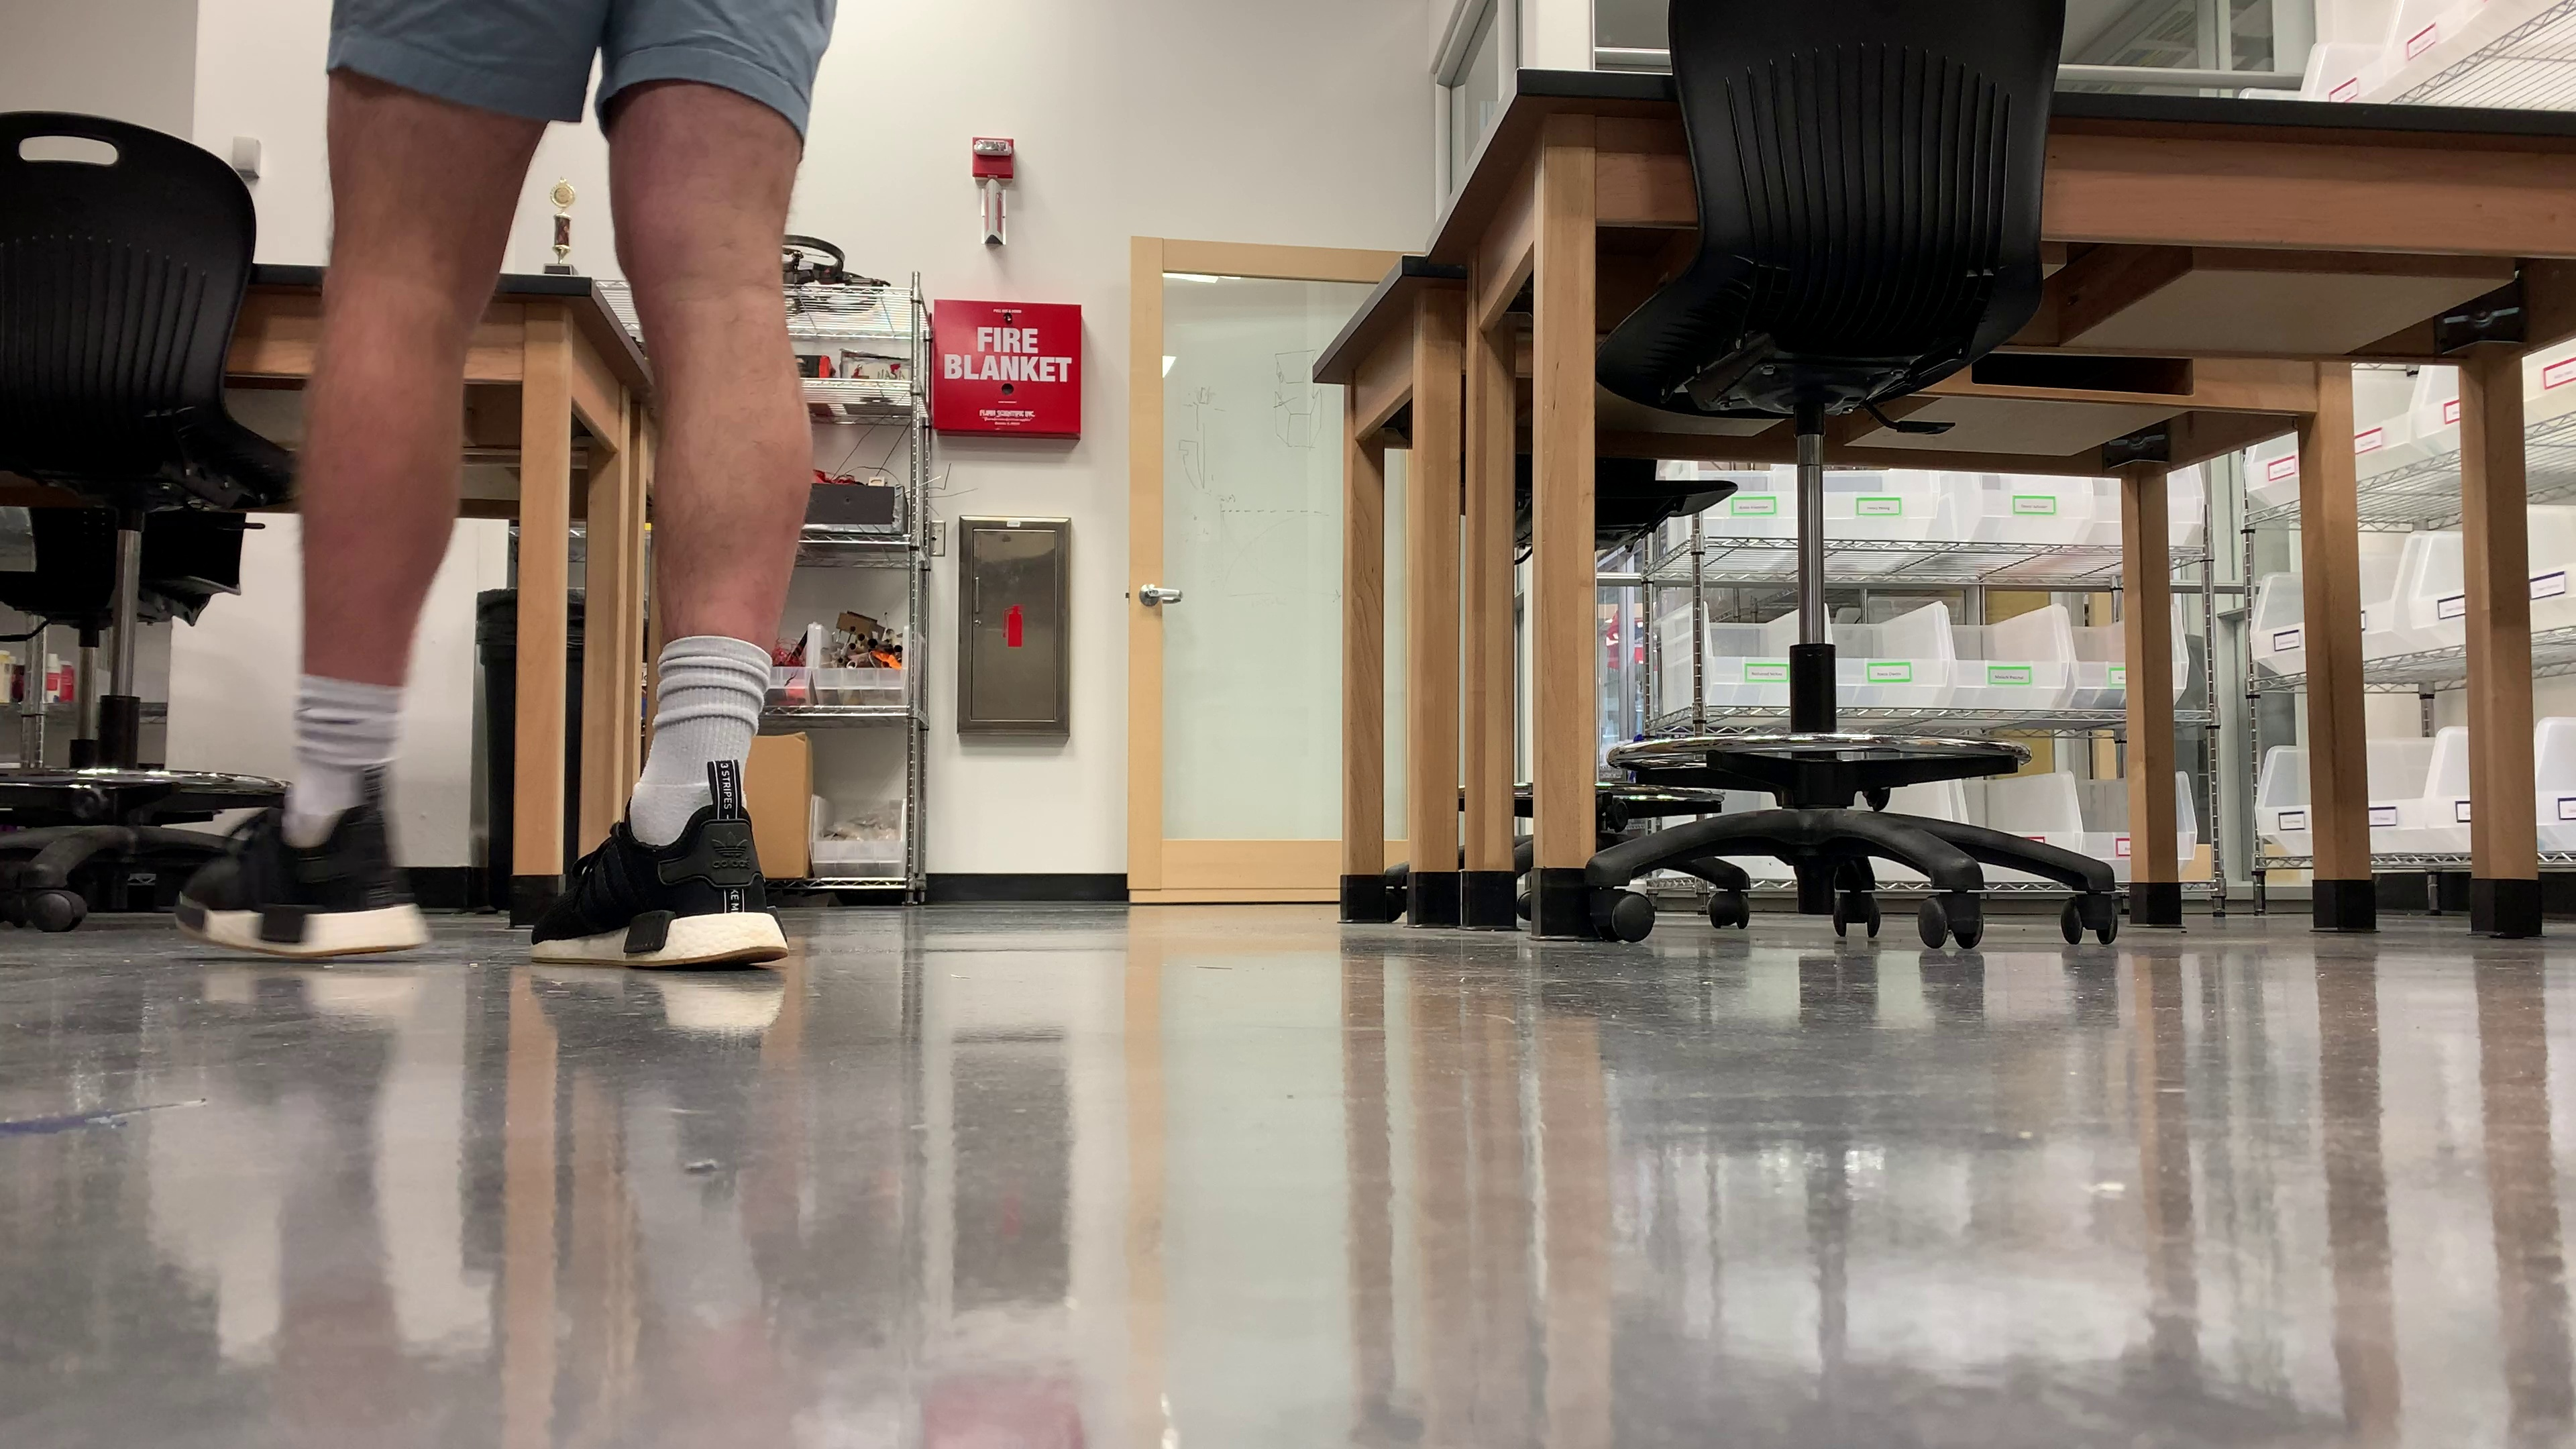shoe: (533, 803, 789, 970), (175, 784, 426, 952)
